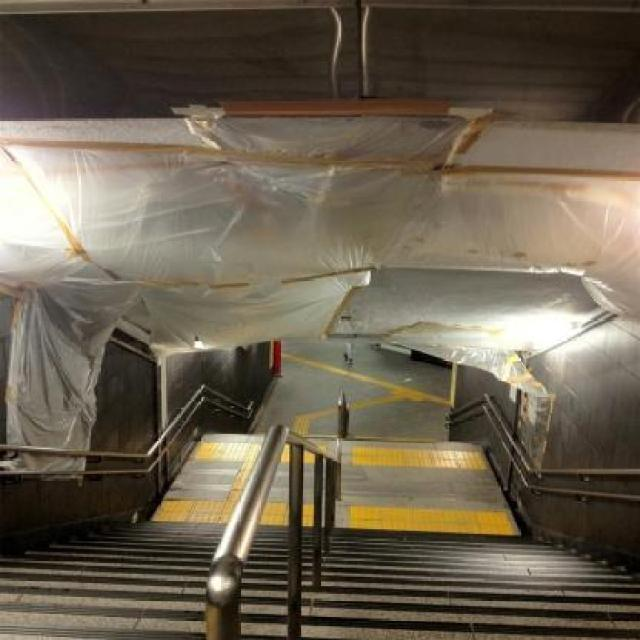stair: (0, 520, 640, 640)
